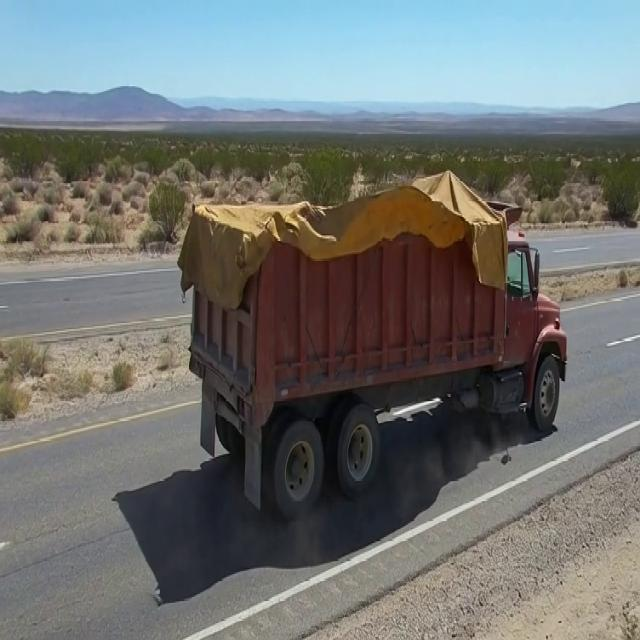trailer: (195, 180, 527, 264)
truck: (182, 170, 574, 530)
